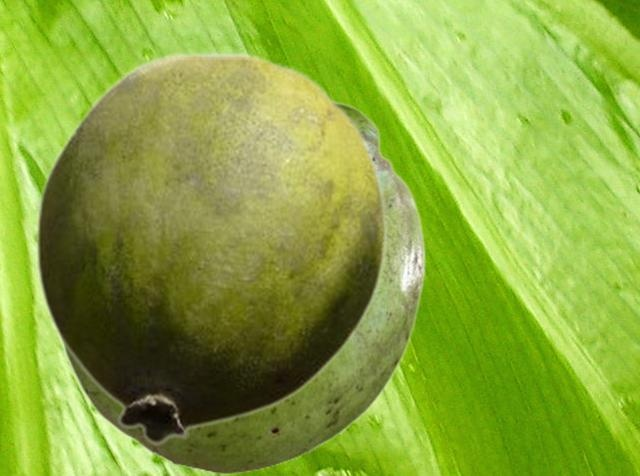guava: (34, 51, 388, 444), (55, 98, 425, 473)
